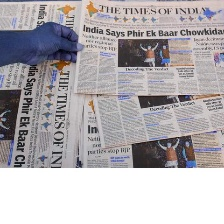news_paper: (71, 0, 224, 96), (0, 0, 79, 172), (78, 90, 224, 168), (89, 88, 224, 152)
